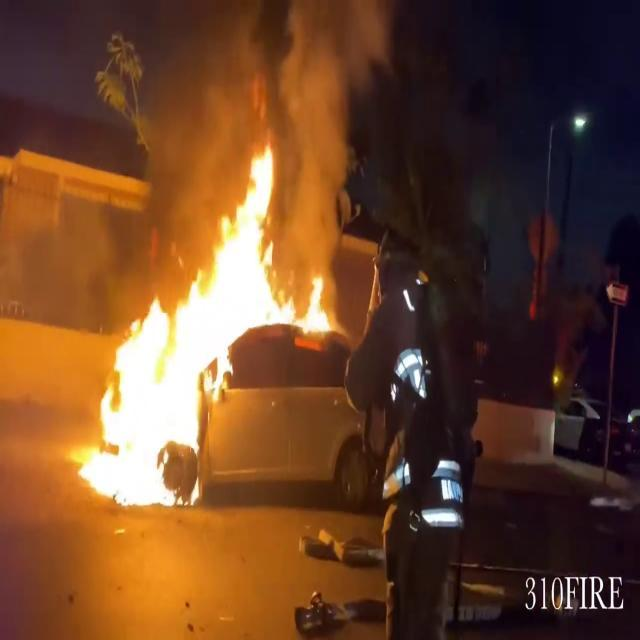Fire: (68, 130, 340, 514)
Smoke: (241, 0, 401, 235)
